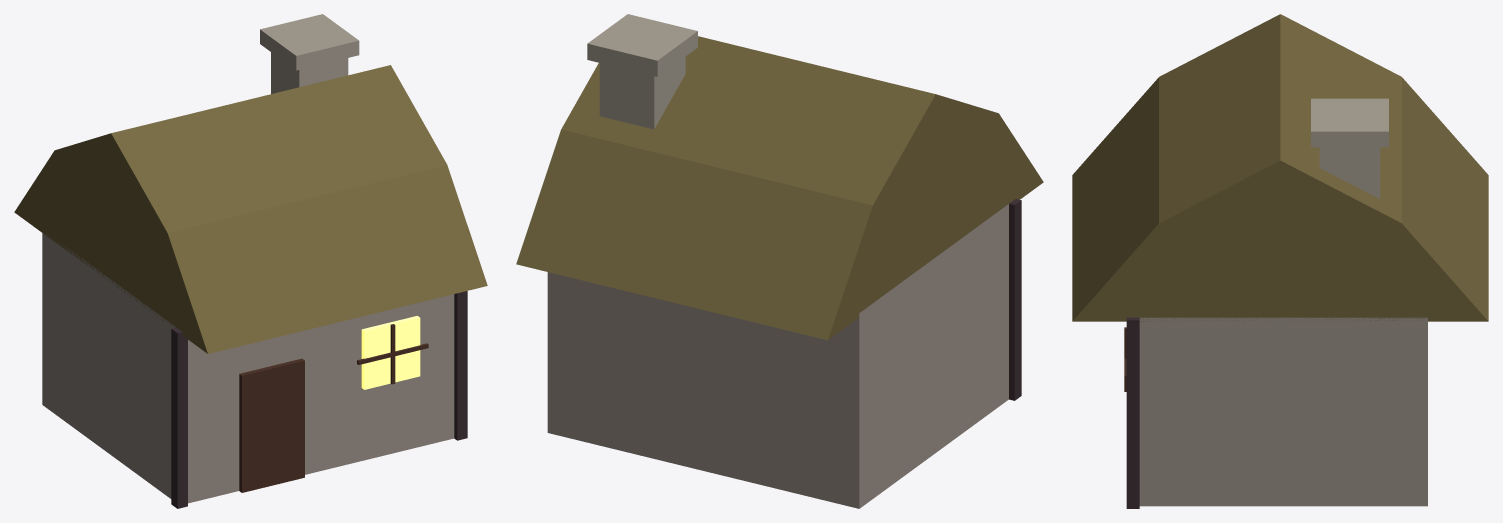
Rendered from witch_cottage.glb.
The picture shows the model from 3 angles, left to right: view 1: azimuth 30°, elevation 25°; view 2: azimuth 150°, elevation 25°; view 3: azimuth 270°, elevation 25°; orthographic projection. The views are drawn at different scales.
Visible parts, largest first — view 1: witch_cottage; view 2: witch_cottage; view 3: witch_cottage.
Part boxes in pixels (bbox=[...]): witch_cottage: bbox=[14, 14, 487, 508]; witch_cottage: bbox=[516, 14, 1043, 508]; witch_cottage: bbox=[1072, 14, 1488, 508].
Size of the model in its own units: 4.15 by 4.65 by 4.8.
